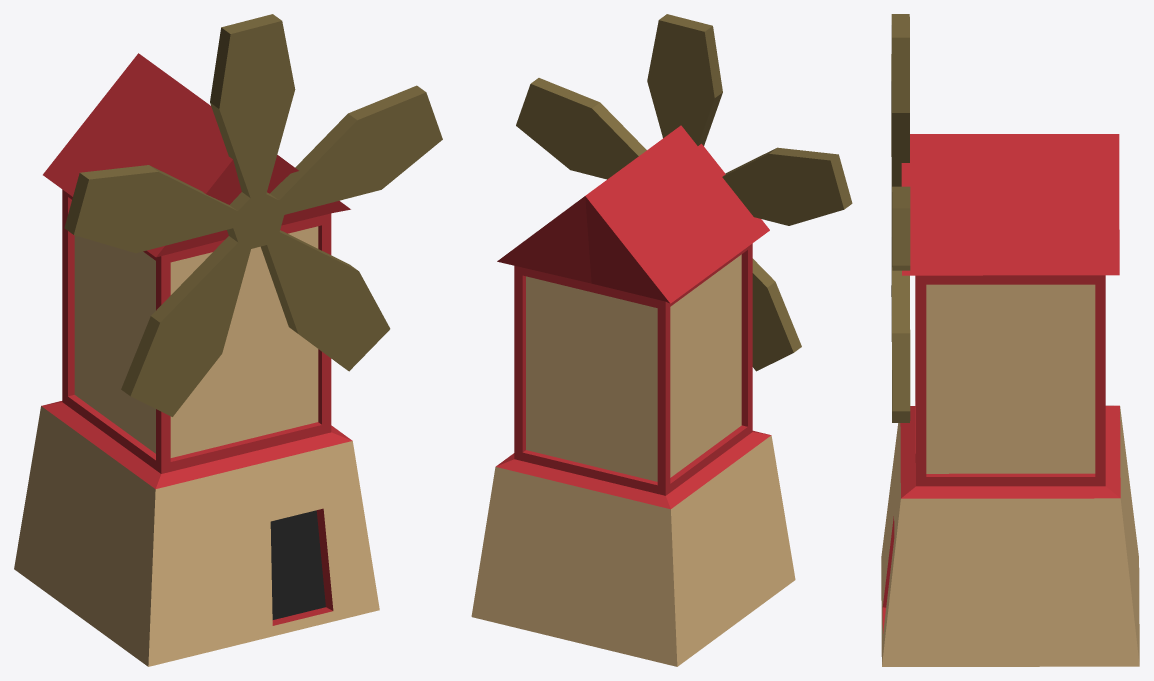
The model's file is Mill.fbx.
The picture shows the model from 3 angles, left to right: view 1: azimuth 30°, elevation 25°; view 2: azimuth 150°, elevation 25°; view 3: azimuth 270°, elevation 25°; orthographic projection. The views are drawn at different scales.
Visible parts, largest first — view 1: Mill, propeller; view 2: Mill, propeller; view 3: Mill, propeller.
Boxes of the visible parts, left/top/right/bottom form: Mill: left=14, top=53, right=379, bottom=666; propeller: left=64, top=14, right=442, bottom=416; Mill: left=471, top=125, right=795, bottom=666; propeller: left=516, top=14, right=852, bottom=371; Mill: left=881, top=134, right=1139, bottom=666; propeller: left=891, top=14, right=910, bottom=422.
Size of the model in its own units: 166 by 261 by 105.
